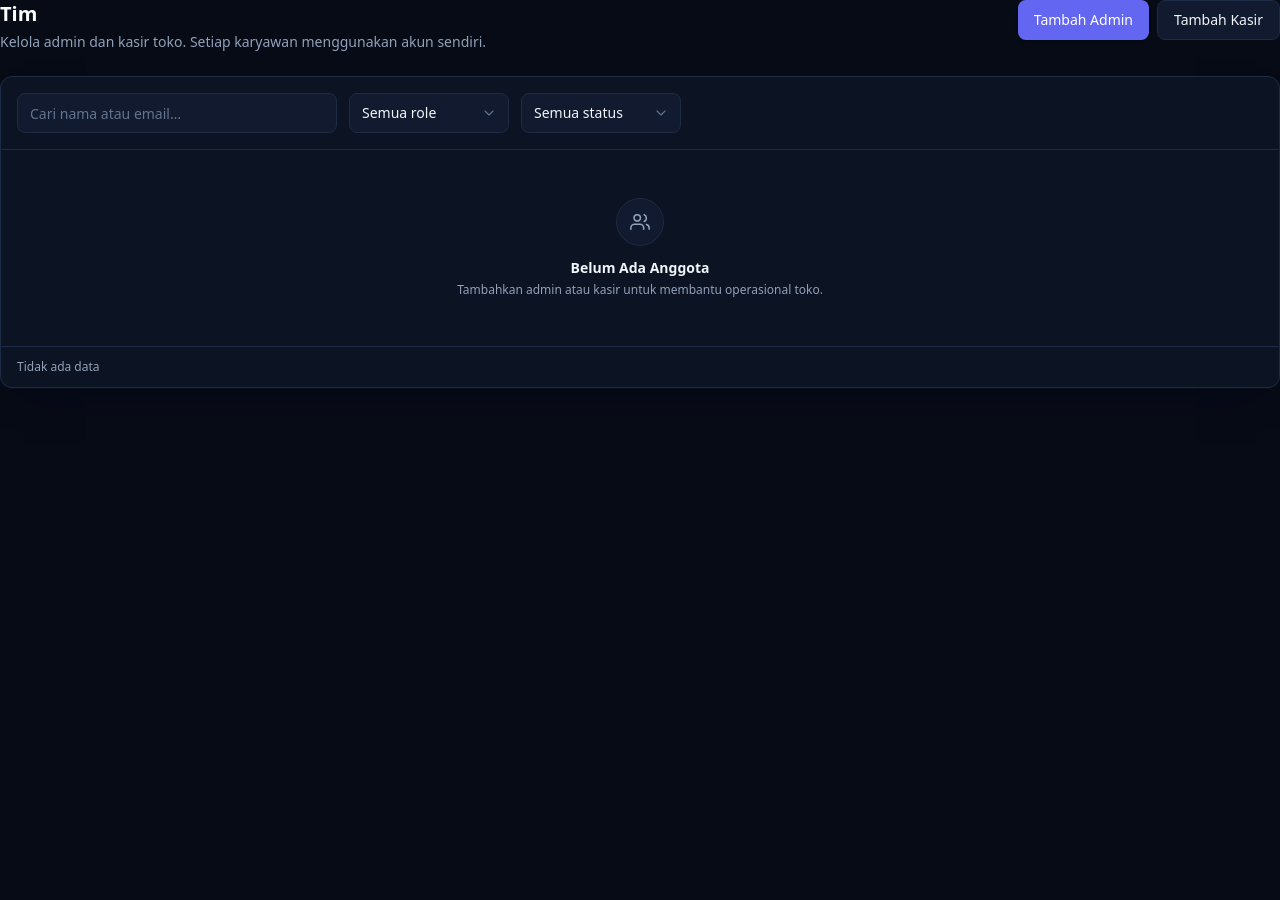
Scenario: TeamPage › shows a clear message when the admin limit is reached
Click the button "Tambah Admin" at (1083, 20), box [1018, 0, 1149, 40]
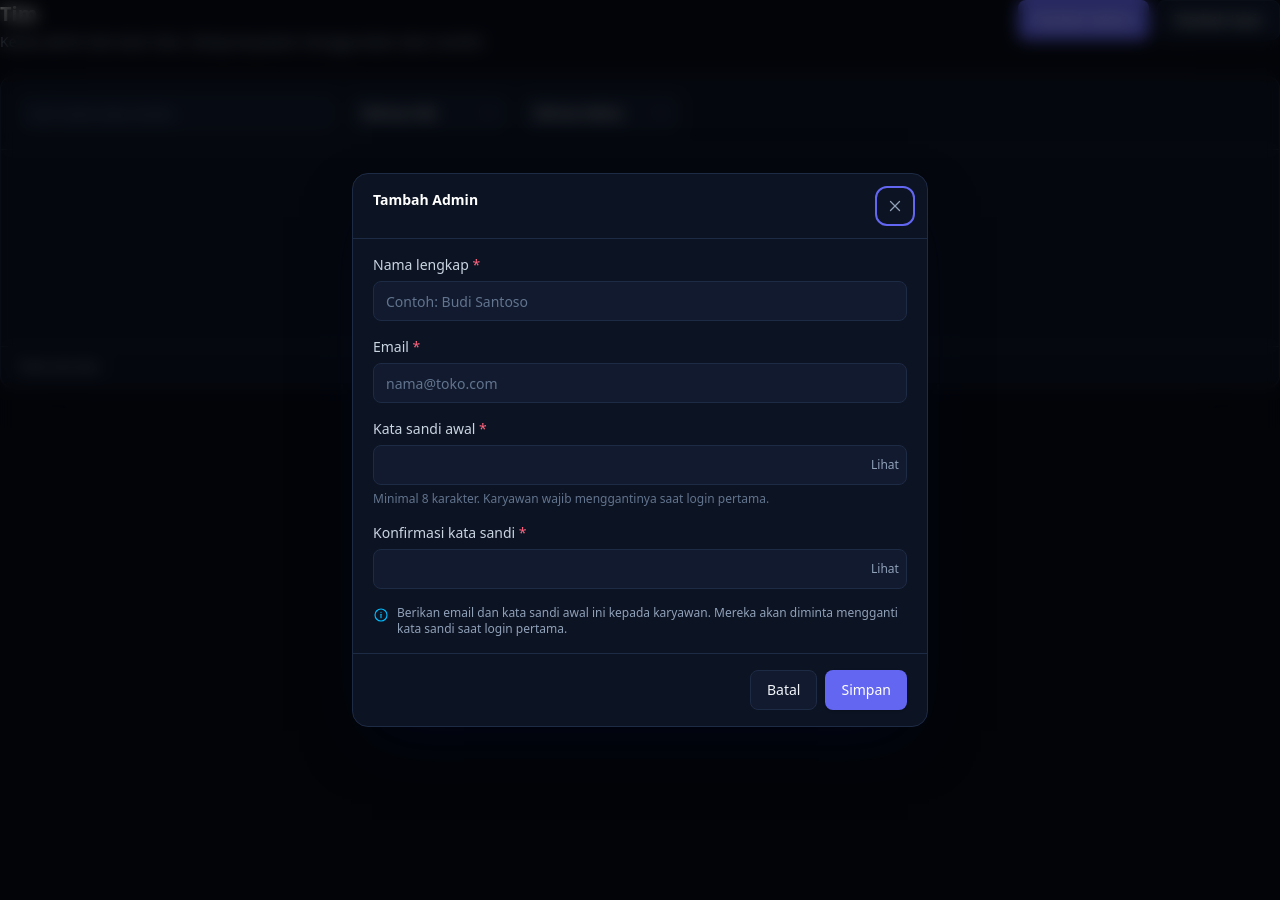
Type "Admin Baru" into the field named "name" at (640, 301), box [373, 281, 907, 321]
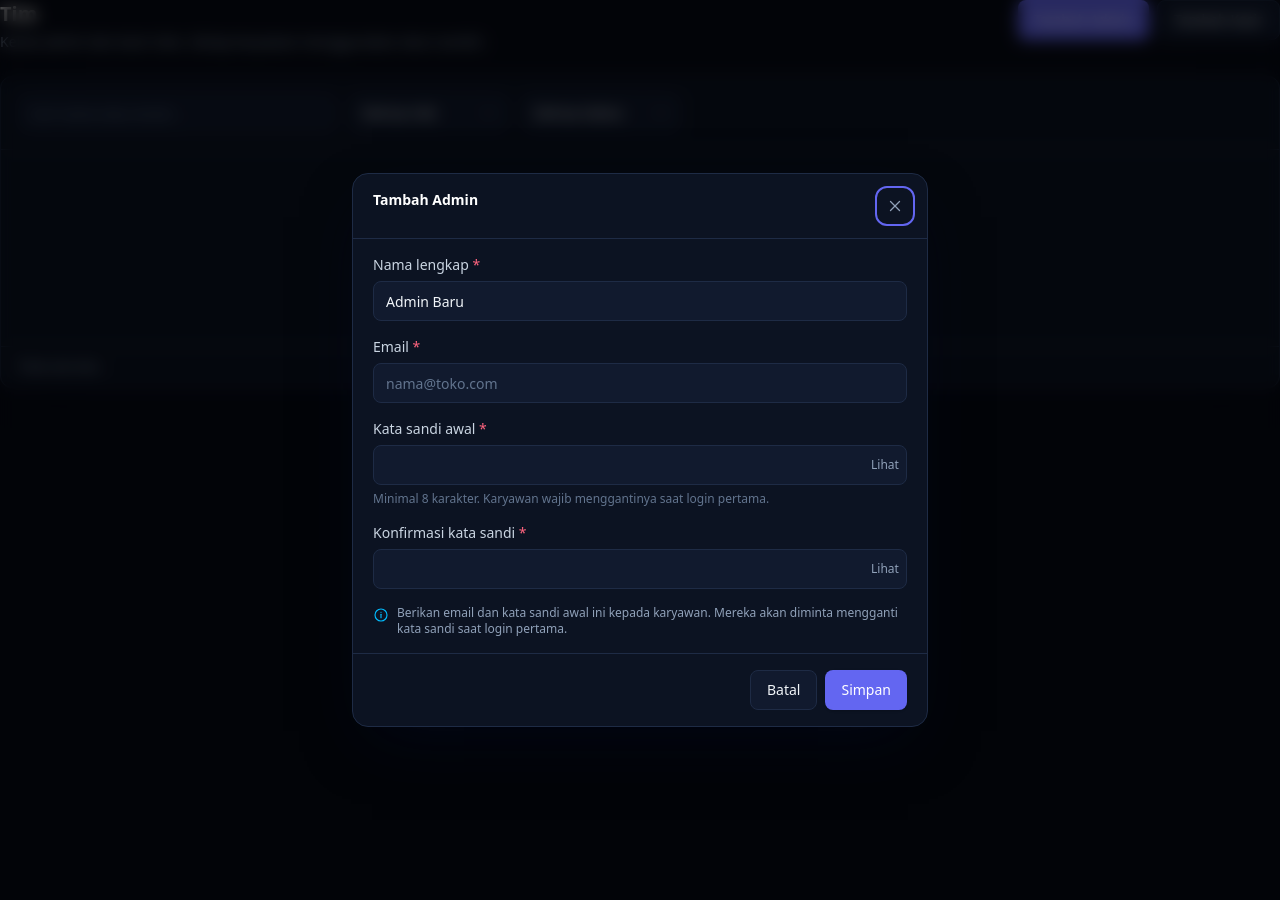
Type "baru@example.com" into the field named "email" at (640, 383), box [373, 363, 907, 403]
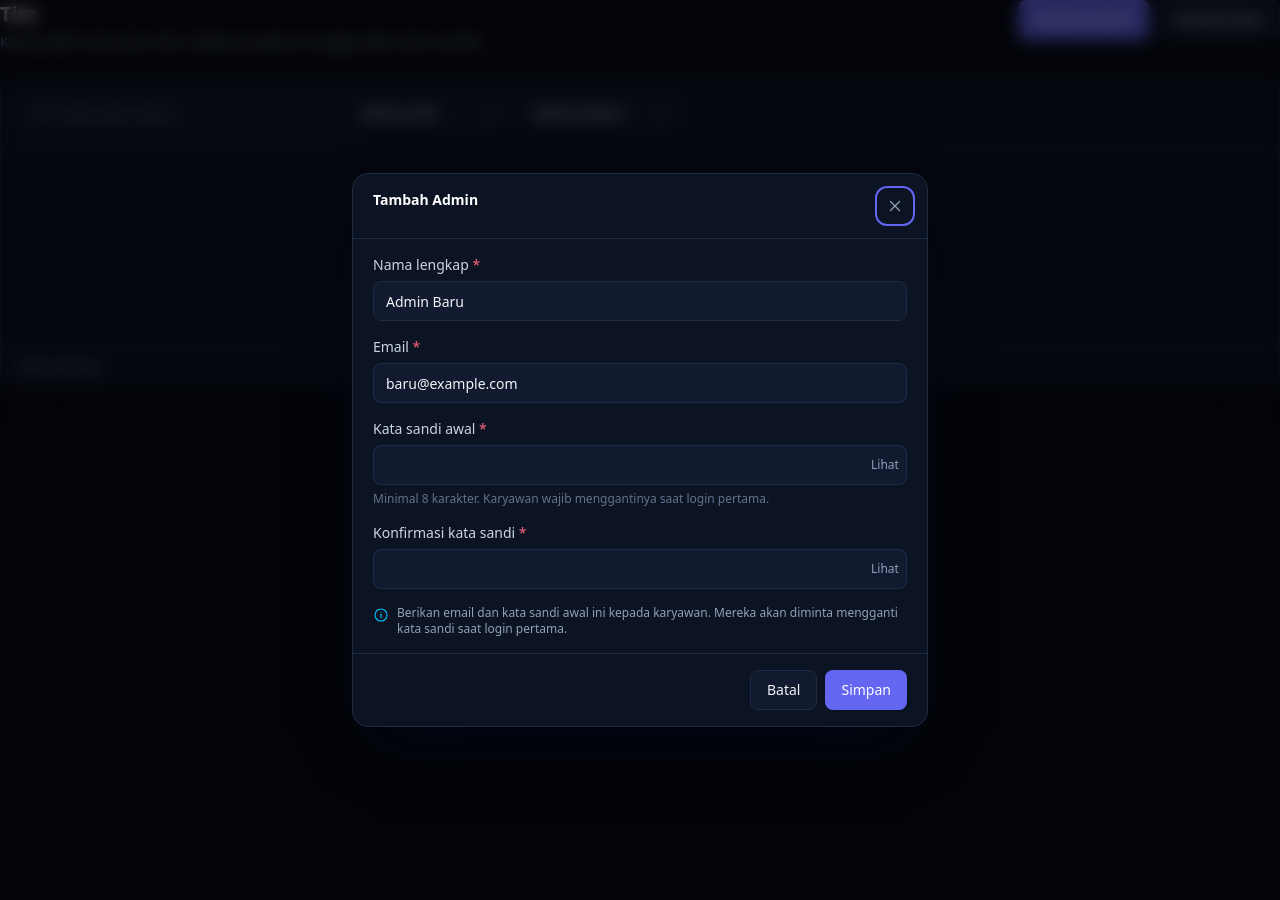
Type "password123" into the password field named "password" at (640, 465), box [373, 445, 907, 485]
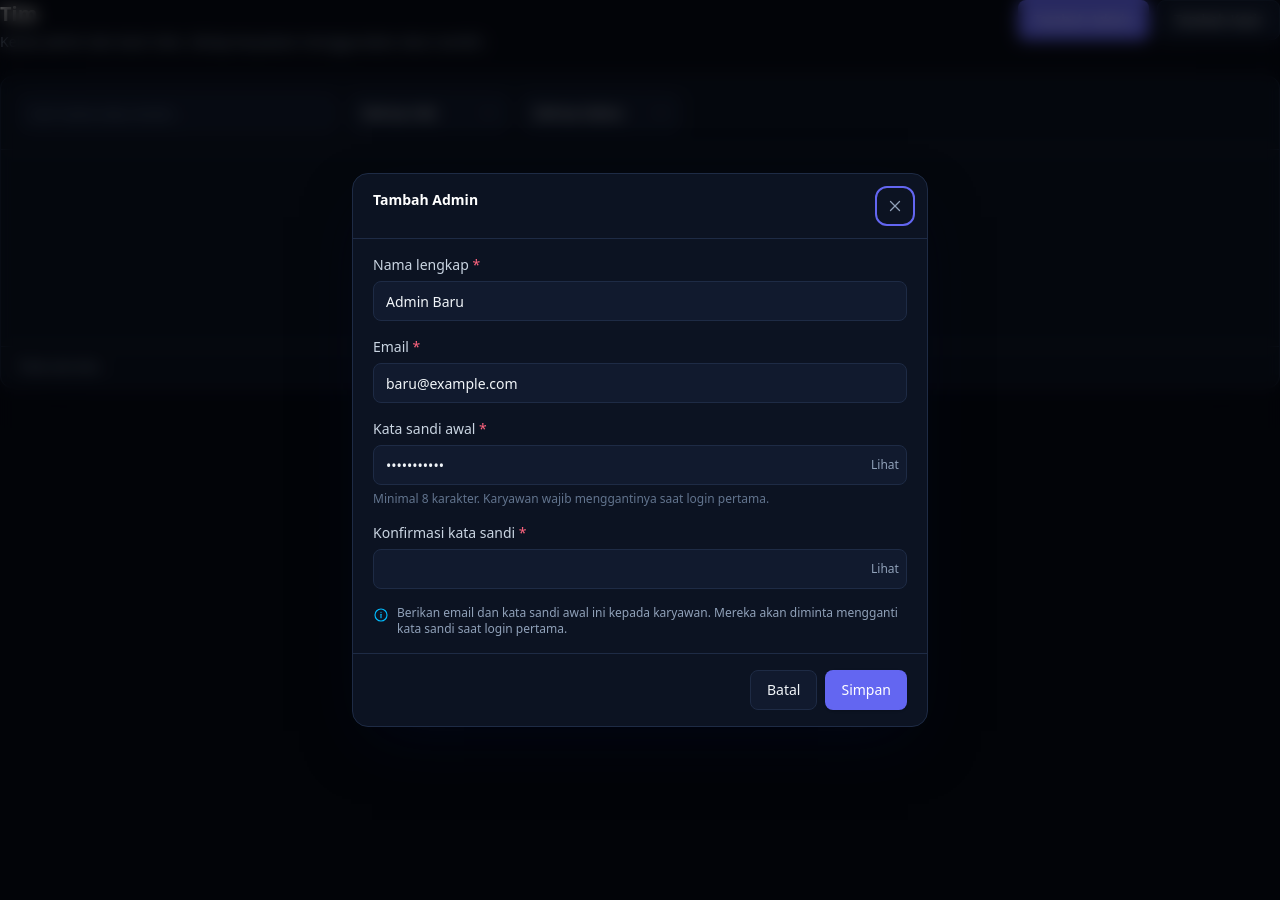
Type "password123" into the password field named "password_confirmation" at (640, 569), box [373, 549, 907, 589]
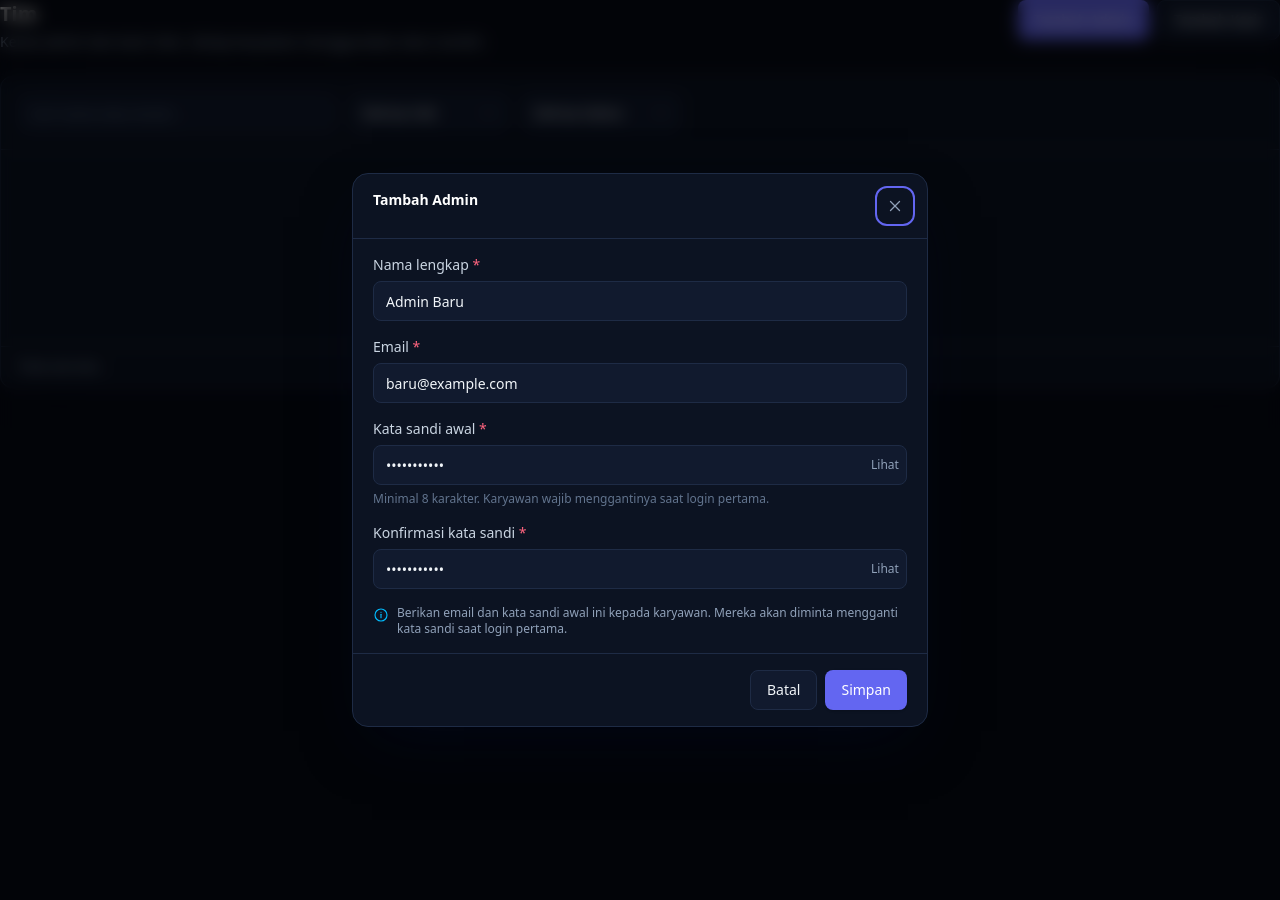
Submit the form with id "member-form", box [373, 255, 907, 637]
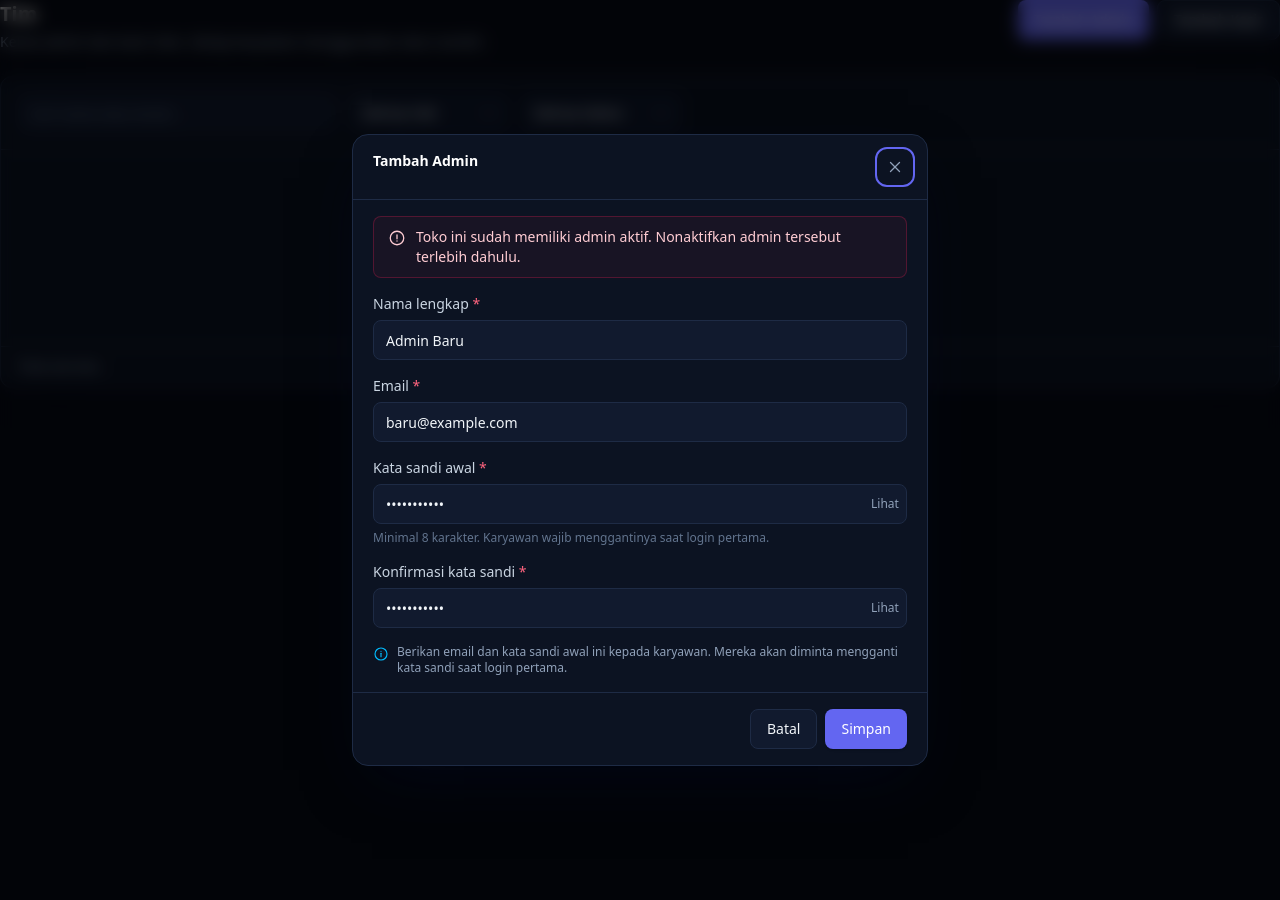
Check: the text "sudah memiliki admin" is shown, box [416, 227, 841, 266]
